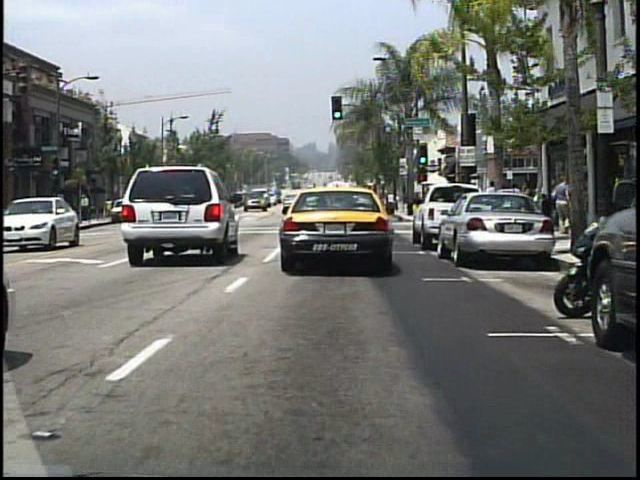person: (552, 176, 572, 235), (517, 177, 537, 235)
